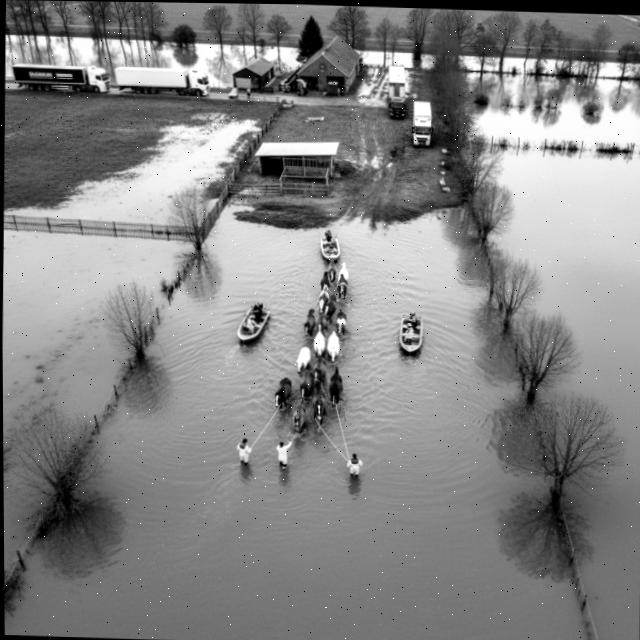civilian: (236, 436, 257, 468), (344, 450, 365, 480), (273, 440, 292, 471), (402, 321, 415, 349), (245, 313, 257, 336)
horse: (326, 364, 345, 408), (272, 376, 294, 411), (311, 384, 329, 425), (297, 365, 316, 399), (291, 400, 307, 435), (295, 342, 312, 374), (326, 328, 341, 363), (334, 272, 350, 302), (312, 327, 326, 359), (313, 356, 328, 385), (302, 306, 315, 338), (324, 292, 338, 319), (316, 286, 329, 314), (318, 269, 333, 291), (316, 310, 328, 335), (335, 310, 346, 337), (326, 261, 338, 284), (338, 263, 349, 283)
